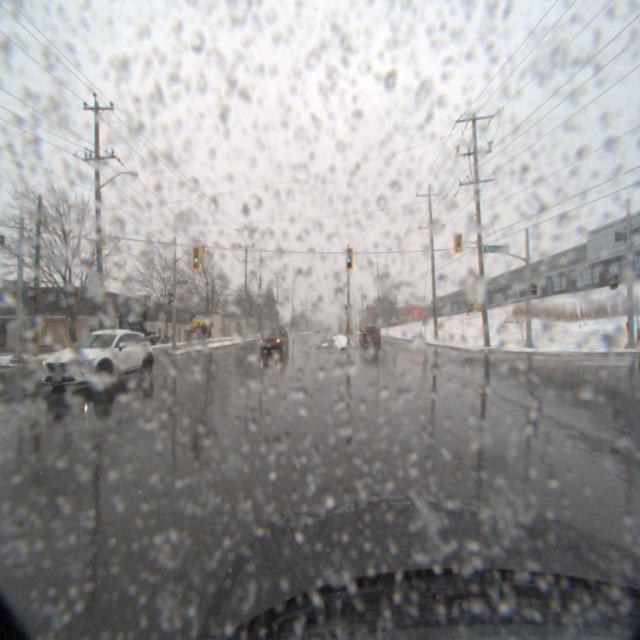Car: (38, 322, 164, 391), (257, 324, 292, 356), (358, 324, 384, 348)
